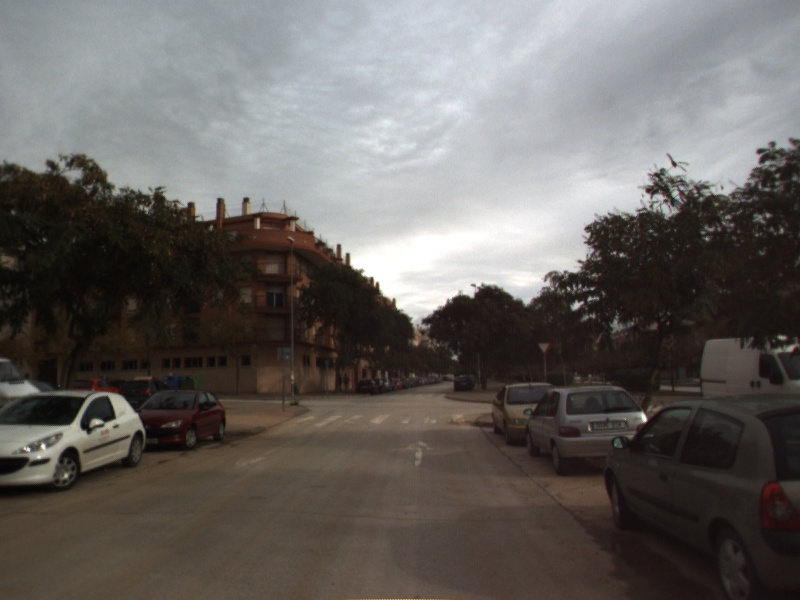STRAIGHT: (404, 439, 437, 469)
